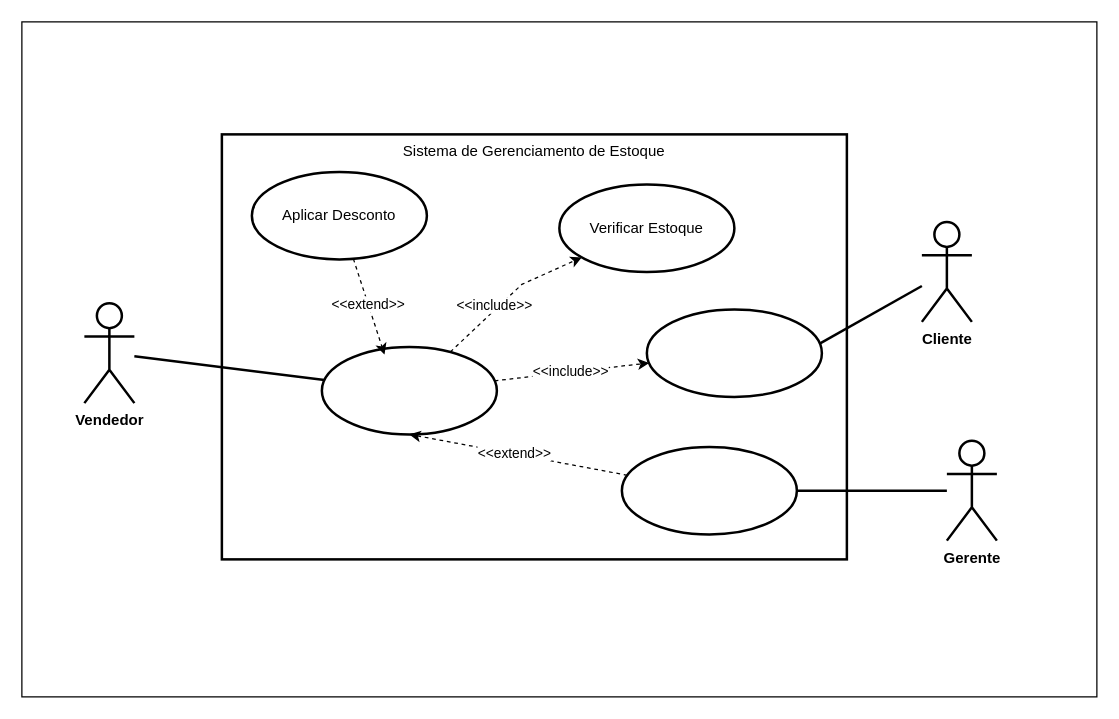
Some shapes in this 1119 by 719 pixel diagram are drawn without their labels. Each missing label, with the centre of its shape:
"Processar Pagamento" goes at point (733, 353).
"Realizar Venda" goes at point (409, 390).
"Receber Alerta de Estoque Baixo" goes at point (709, 490).
